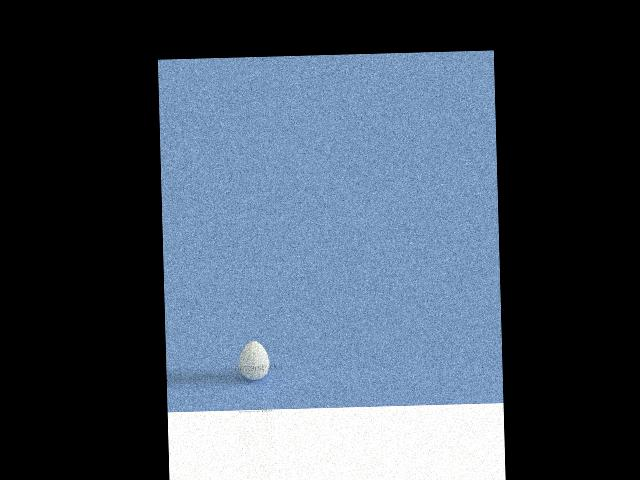egg: (238, 340, 270, 380)
